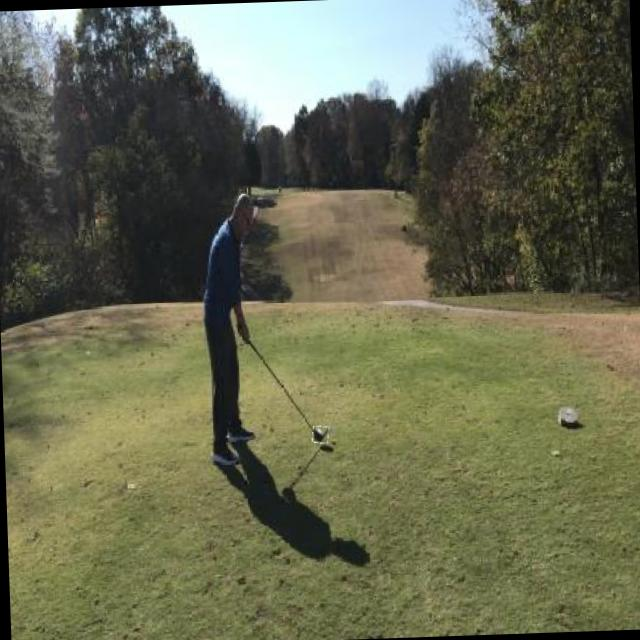club head: (311, 426, 328, 442)
